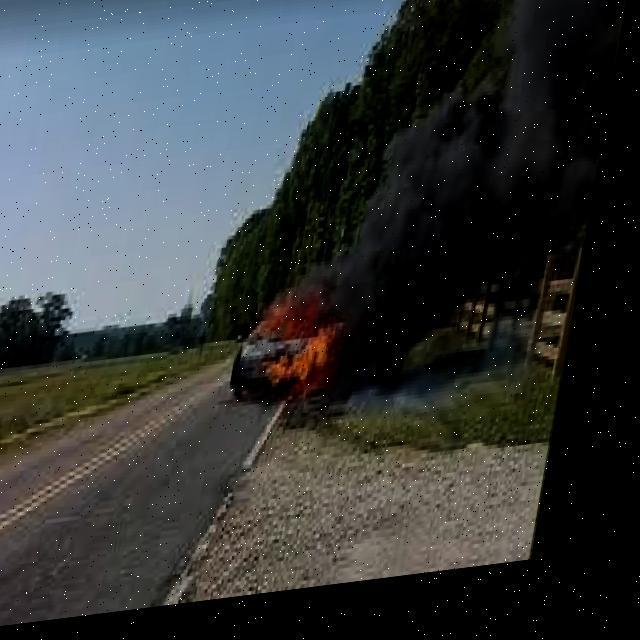Fire: (246, 282, 376, 416)
